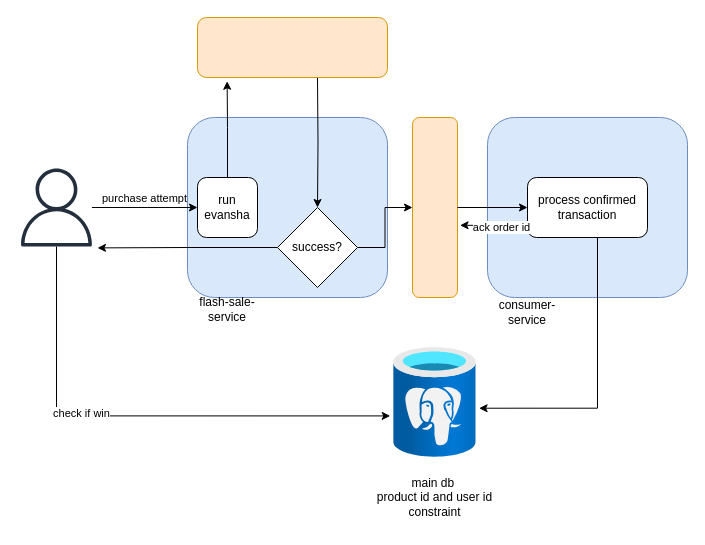
Some shapes in this 705 by 545 pixel diagram are drawn without their labels. Here are the shapes that lost their labels. From the top down, the centre of each, then its label:
At (x=292, y=47): "Redis with Lua script".
At (x=435, y=207): "Redis BullMQ".
